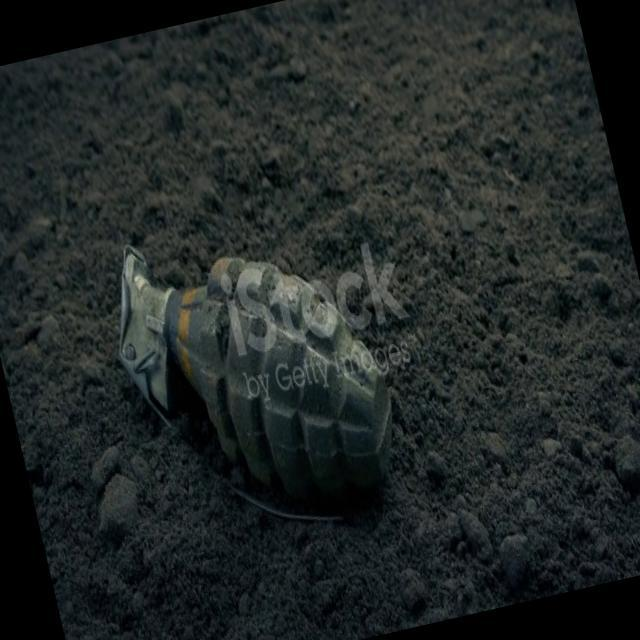grenade: (94, 188, 420, 567)
